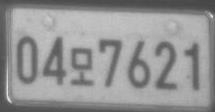0: (16, 35, 39, 84)
1: (182, 42, 206, 92)
2: (153, 40, 179, 90)
4: (41, 35, 68, 85)
6: (126, 40, 151, 90)
7: (97, 38, 123, 88)
모: (69, 46, 95, 87)
